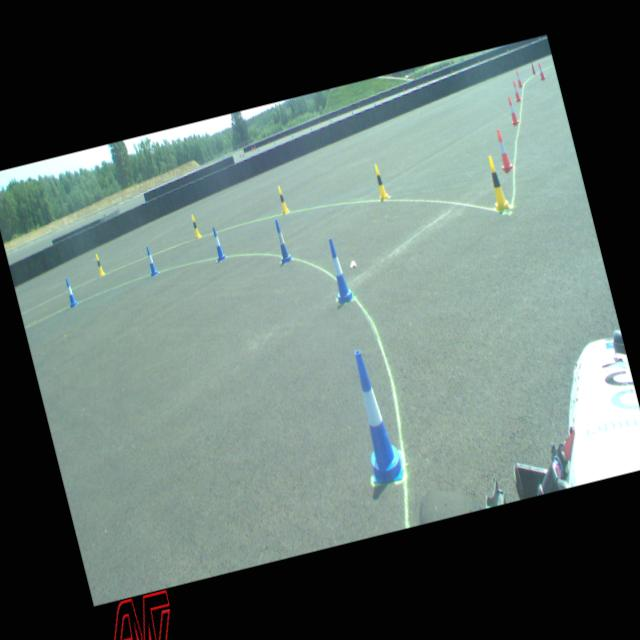blue_cone: (342, 346, 406, 484), (322, 235, 355, 304), (271, 218, 292, 263), (209, 225, 226, 262), (144, 244, 158, 276), (63, 277, 77, 306)
orange_cone: (492, 128, 513, 172), (505, 96, 519, 125), (511, 80, 521, 102), (536, 61, 545, 79), (514, 70, 522, 87)
unknown_cone: (530, 60, 535, 74)
yellow_cone: (484, 153, 509, 210), (371, 163, 389, 201), (276, 184, 290, 213), (190, 213, 202, 238), (94, 252, 106, 275)
